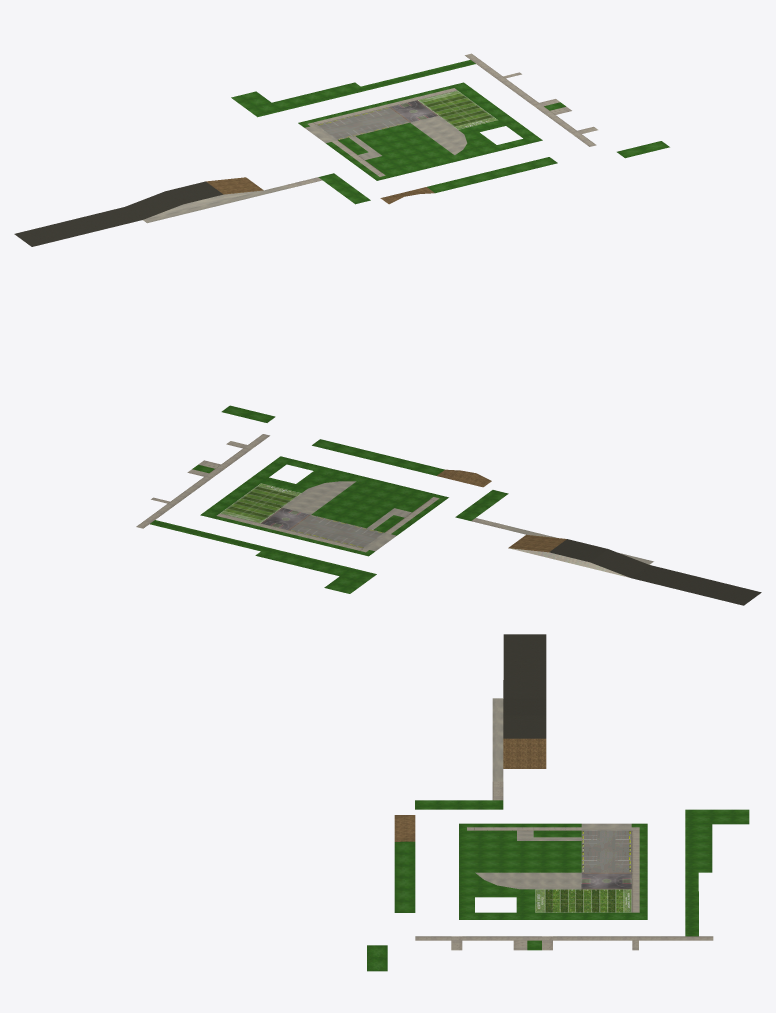
The model's file is GROUND.glb.
The picture shows the model from 3 angles, top to bottom: view 1: azimuth 30°, elevation 25°; view 2: azimuth 150°, elevation 25°; view 3: azimuth 270°, elevation 25°; orthographic projection. The views are drawn at different scales.
Visible parts, largest first — view 1: GROUND; view 2: GROUND; view 3: GROUND.
Boxes of the visible parts, <box> form: GROUND: <box>14,53,669,246</box>; GROUND: <box>136,405,761,605</box>; GROUND: <box>367,634,749,971</box>.
Bounding box in the file's own units: 35866 × 316 × 31121.
Materials: 11 (11 with a texture image).
